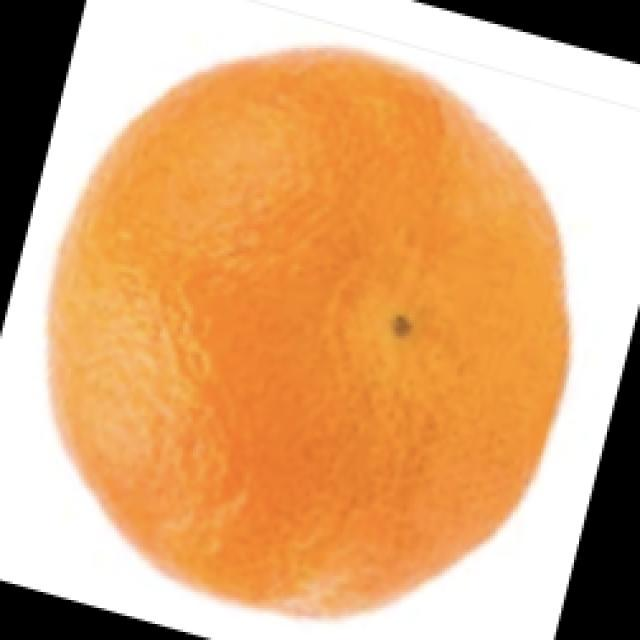Orange: (44, 43, 571, 619)
